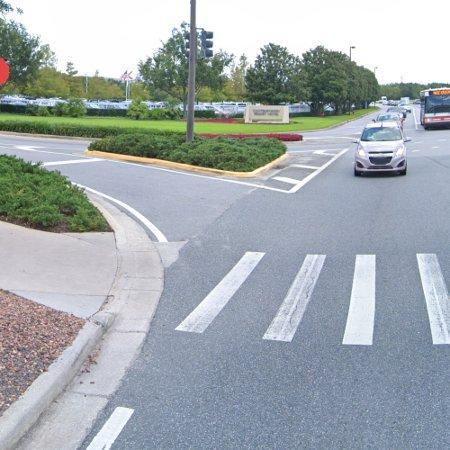crosswalks: (169, 250, 450, 348)
